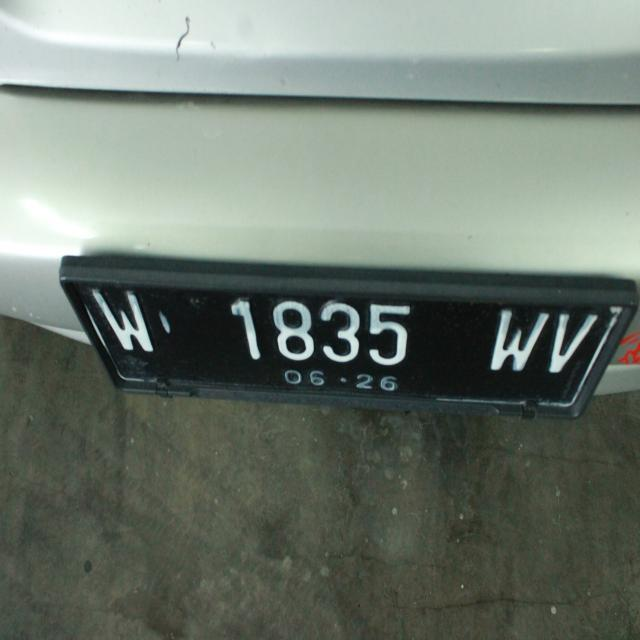1: (218, 274, 272, 378)
3: (311, 280, 363, 368)
5: (363, 280, 416, 372)
8: (269, 286, 319, 368)
V: (545, 299, 601, 389)
W: (86, 270, 168, 372), (483, 286, 547, 386)
